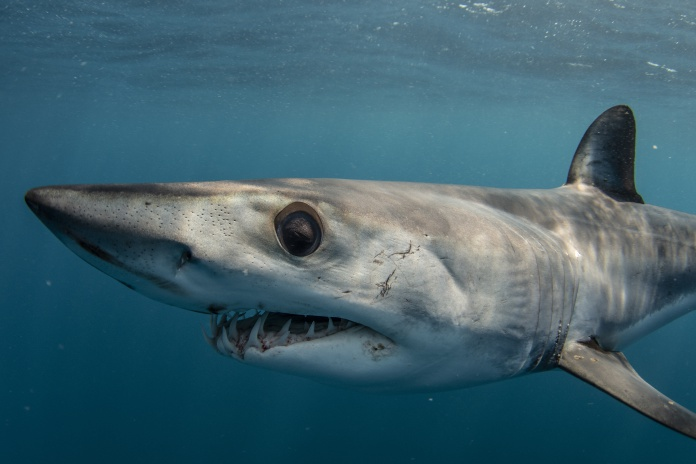Mako: (20, 101, 696, 445)
